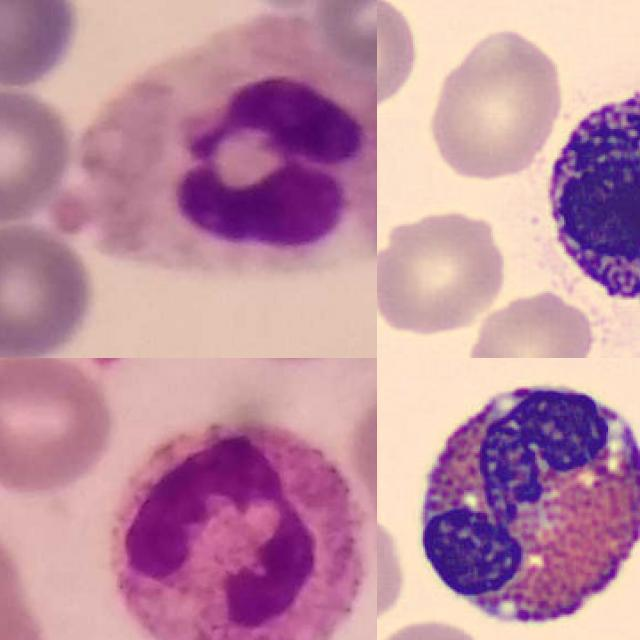Basophil: (532, 69, 640, 317)
Eosinophil: (401, 363, 640, 640)
Neutrophil: (75, 12, 377, 276), (110, 421, 366, 640)
RBC: (424, 24, 570, 186), (377, 205, 510, 339), (461, 284, 598, 358), (377, 0, 422, 120), (377, 508, 408, 633)
